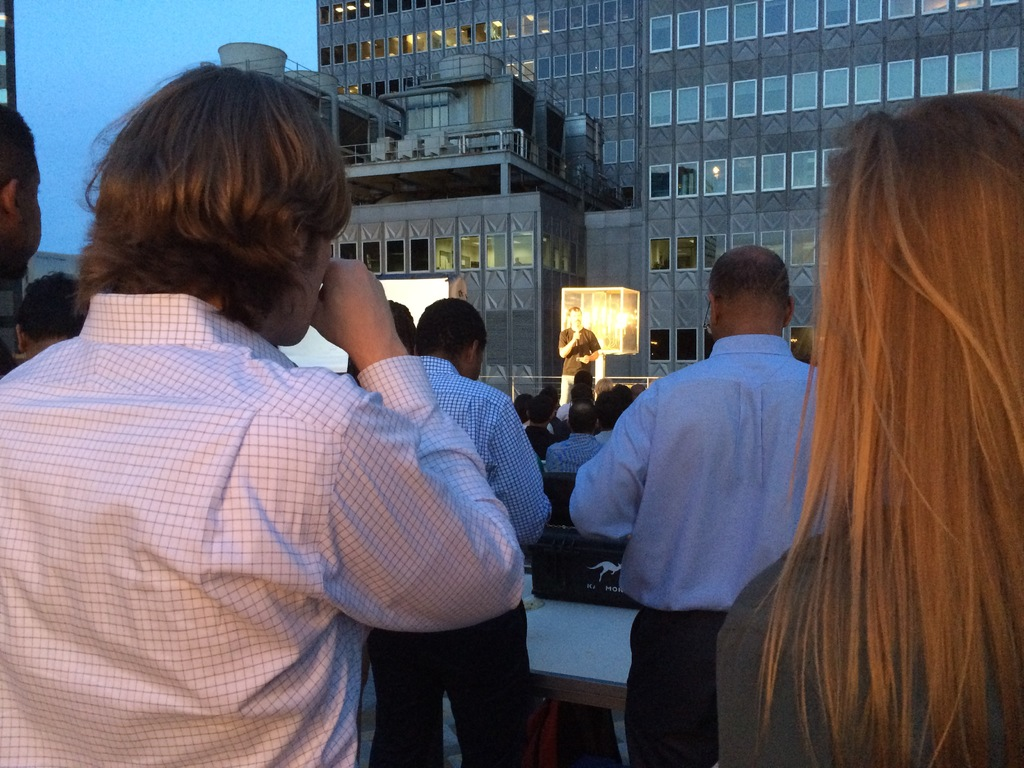Human_hand: (307, 248, 438, 410), (568, 332, 583, 344), (580, 355, 591, 365)
